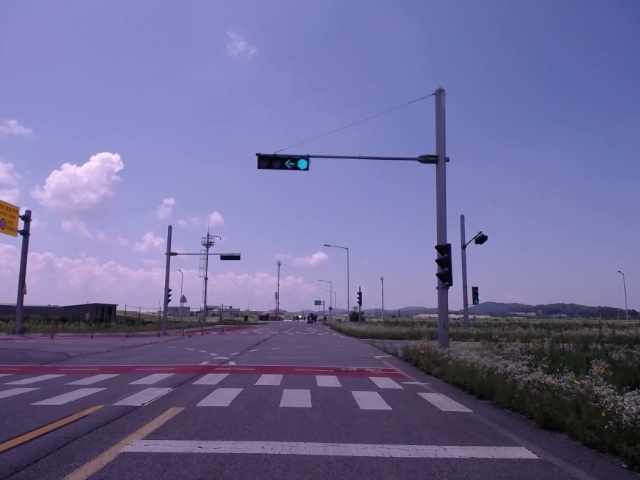all_green_4: (254, 155, 311, 171)
